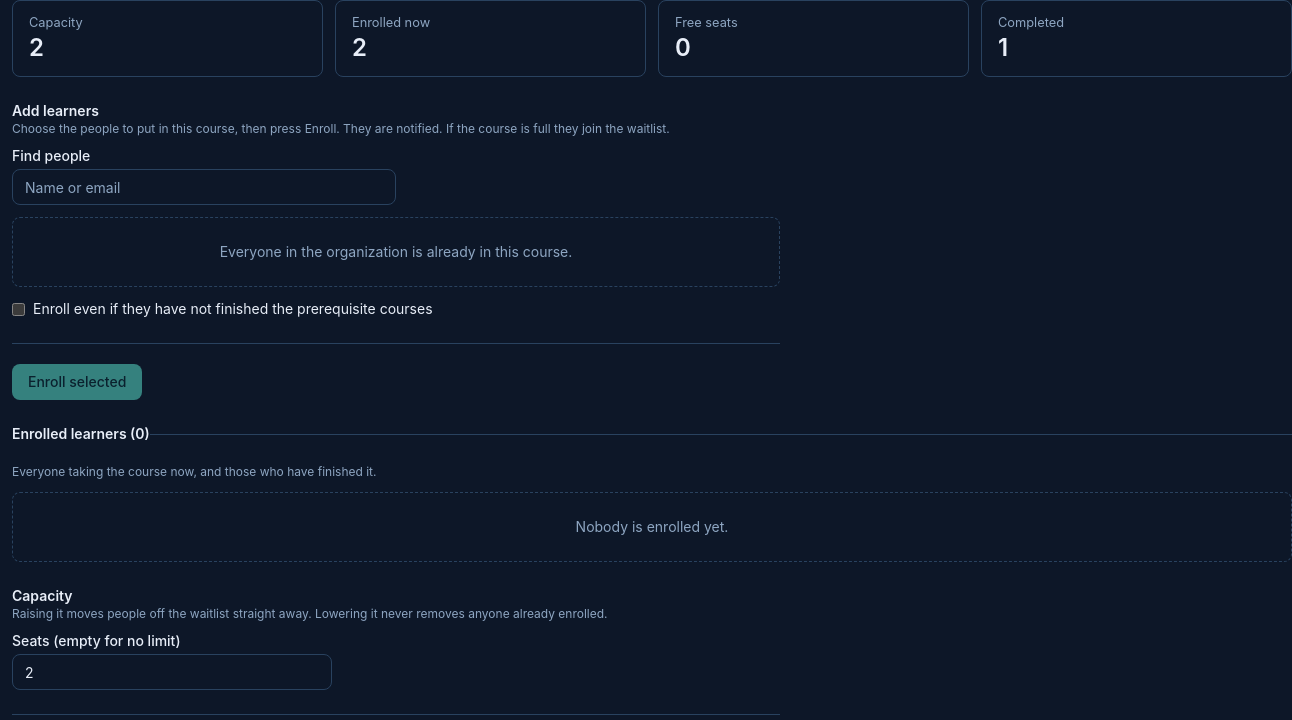
Scenario: CourseEnrollmentPanel › will not save an invalid capacity
Type "x" into the field labelled "Seats (empty for no limit)". click: (172, 672)
box: [12, 654, 332, 690]
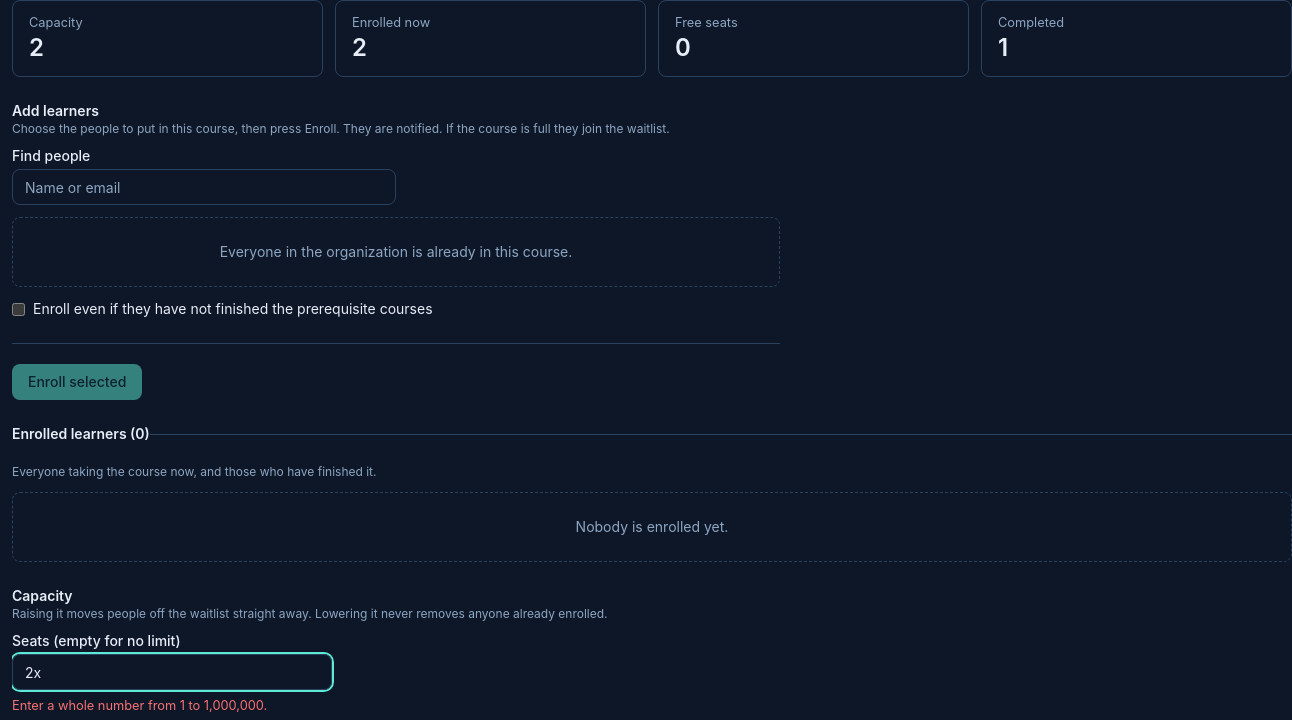
expect the message shows "whole number": met, box [12, 698, 267, 713]
